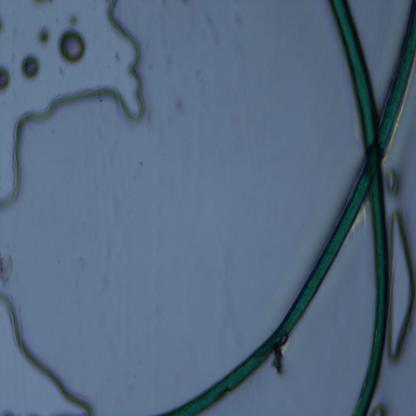Air bubble: (0, 0, 143, 211), (0, 288, 95, 415), (388, 210, 414, 365), (59, 27, 87, 62), (384, 163, 399, 197), (22, 53, 40, 79), (0, 64, 13, 92), (372, 402, 389, 415)
Microfibre: (160, 3, 416, 415), (327, 1, 388, 416)
